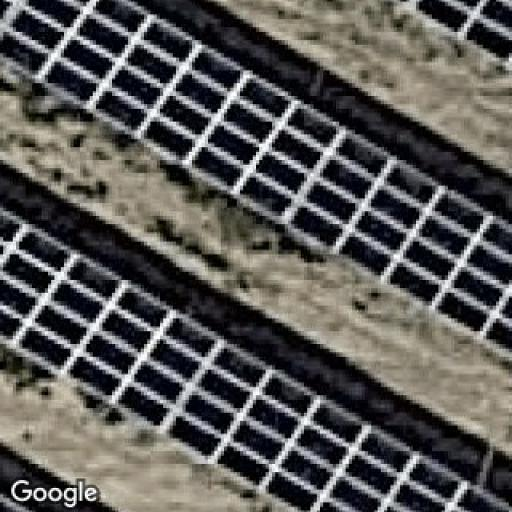solar-panel: (0, 0, 512, 360), (0, 229, 512, 512), (393, 0, 512, 65)
